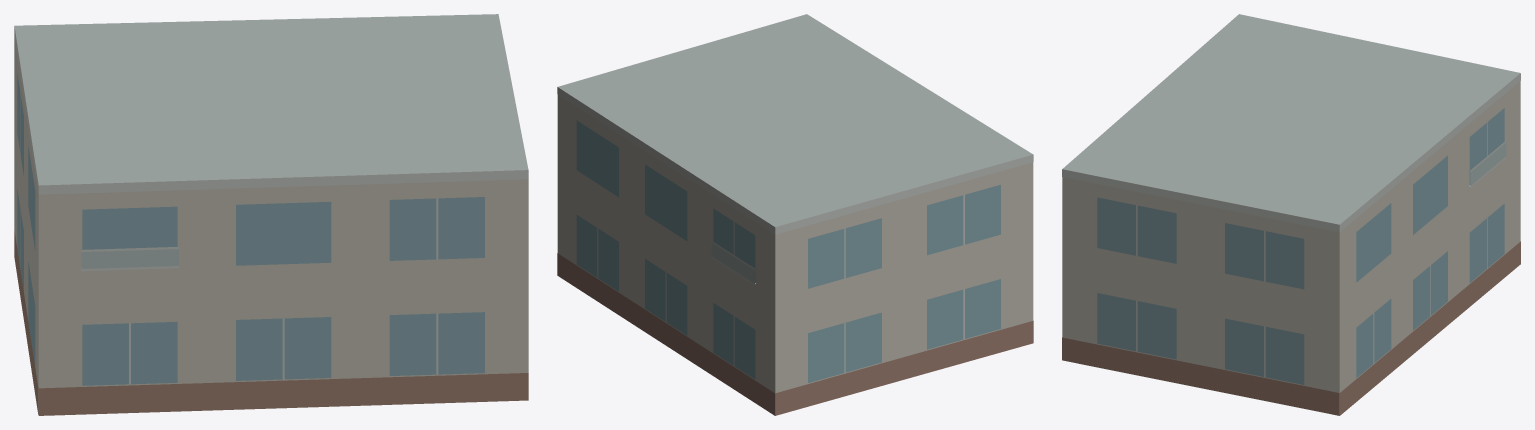
The model's file is survey-upis-32842913.glb.
3 renders of one model, left to right at view 1: azimuth 30°, elevation 25°; view 2: azimuth 150°, elevation 25°; view 3: azimuth 270°, elevation 25°, orthographic. The views are drawn at different scales.
Visible parts, largest first — view 1: survey-upis-32842913.tmp; view 2: survey-upis-32842913.tmp; view 3: survey-upis-32842913.tmp.
Part boxes in pixels (<box>): survey-upis-32842913.tmp: <box>14,14,528,415</box>; survey-upis-32842913.tmp: <box>557,14,1033,415</box>; survey-upis-32842913.tmp: <box>1062,14,1520,415</box>.
Bounding box in the file's own units: 14.44 × 6.1 × 13.28.
